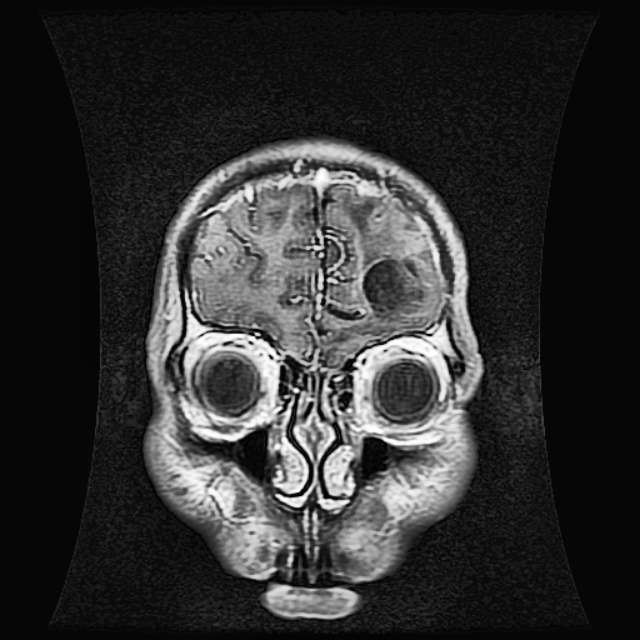Meningioma: (360, 255, 435, 325)
